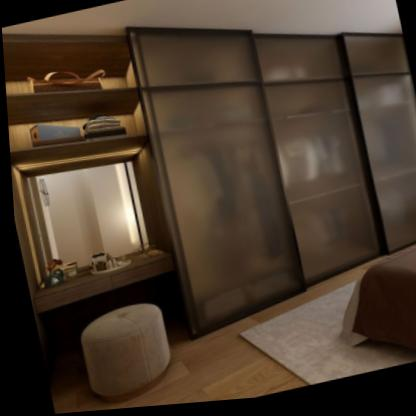Transparent Closet: (2, 35, 416, 396)
